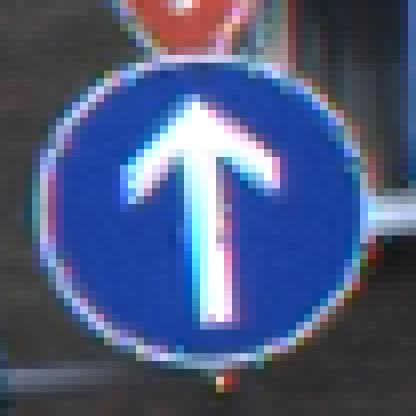AheadOnly: (41, 48, 377, 378)
